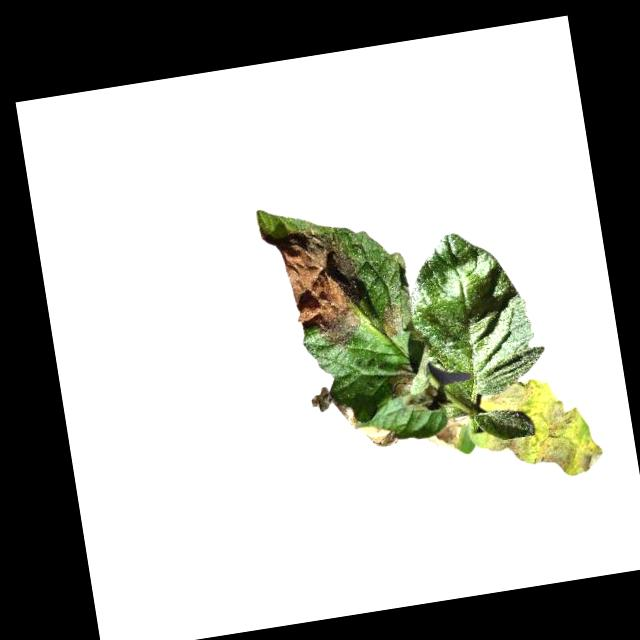Late_blight: (468, 369, 605, 489), (258, 220, 369, 359), (423, 412, 474, 455), (380, 360, 421, 398), (376, 296, 405, 343), (359, 421, 398, 452), (333, 398, 358, 431), (307, 385, 334, 413)
healthy: (400, 222, 549, 405)
